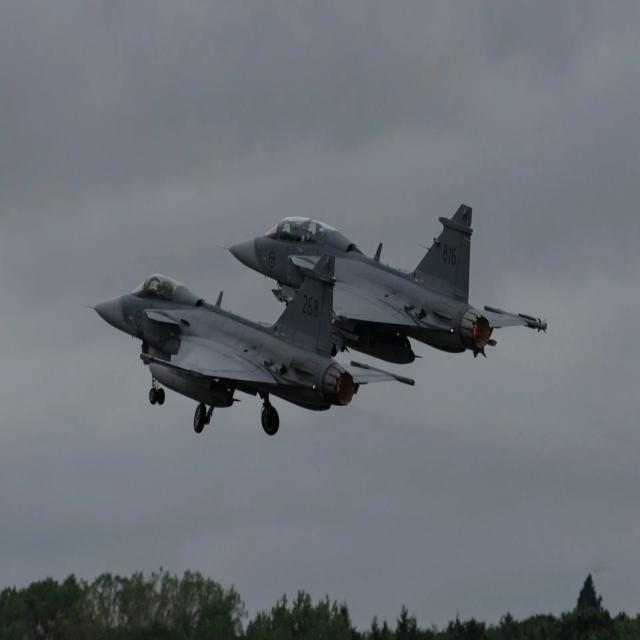MIL_Plane: (80, 253, 415, 436), (215, 203, 547, 364)
